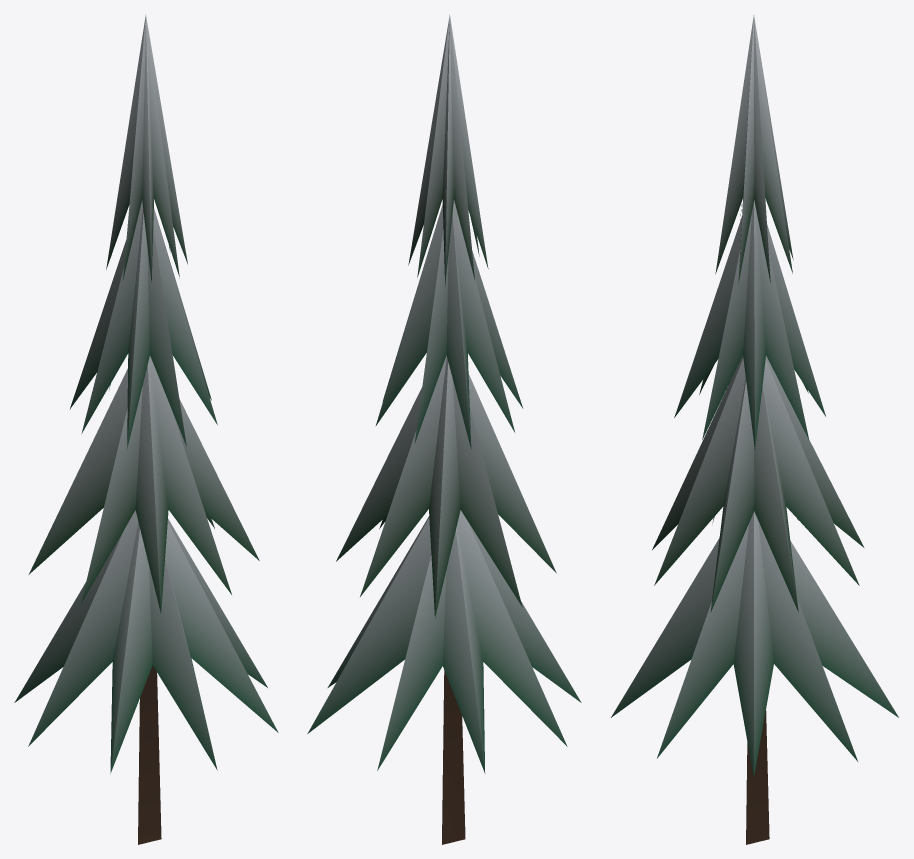
Rendered from conifer_far.glb.
3 renders of one model, left to right at view 1: azimuth 30°, elevation 25°; view 2: azimuth 150°, elevation 25°; view 3: azimuth 270°, elevation 25°, orthographic.
Visible parts, largest first — view 1: conifer_far; view 2: conifer_far; view 3: conifer_far.
Boxes of the visible parts, x1,y1,x2,y2 form: conifer_far: (14, 14, 278, 844); conifer_far: (307, 14, 581, 844); conifer_far: (611, 15, 898, 844).
Size of the model in its own units: 3.02 by 9.9 by 3.14.
